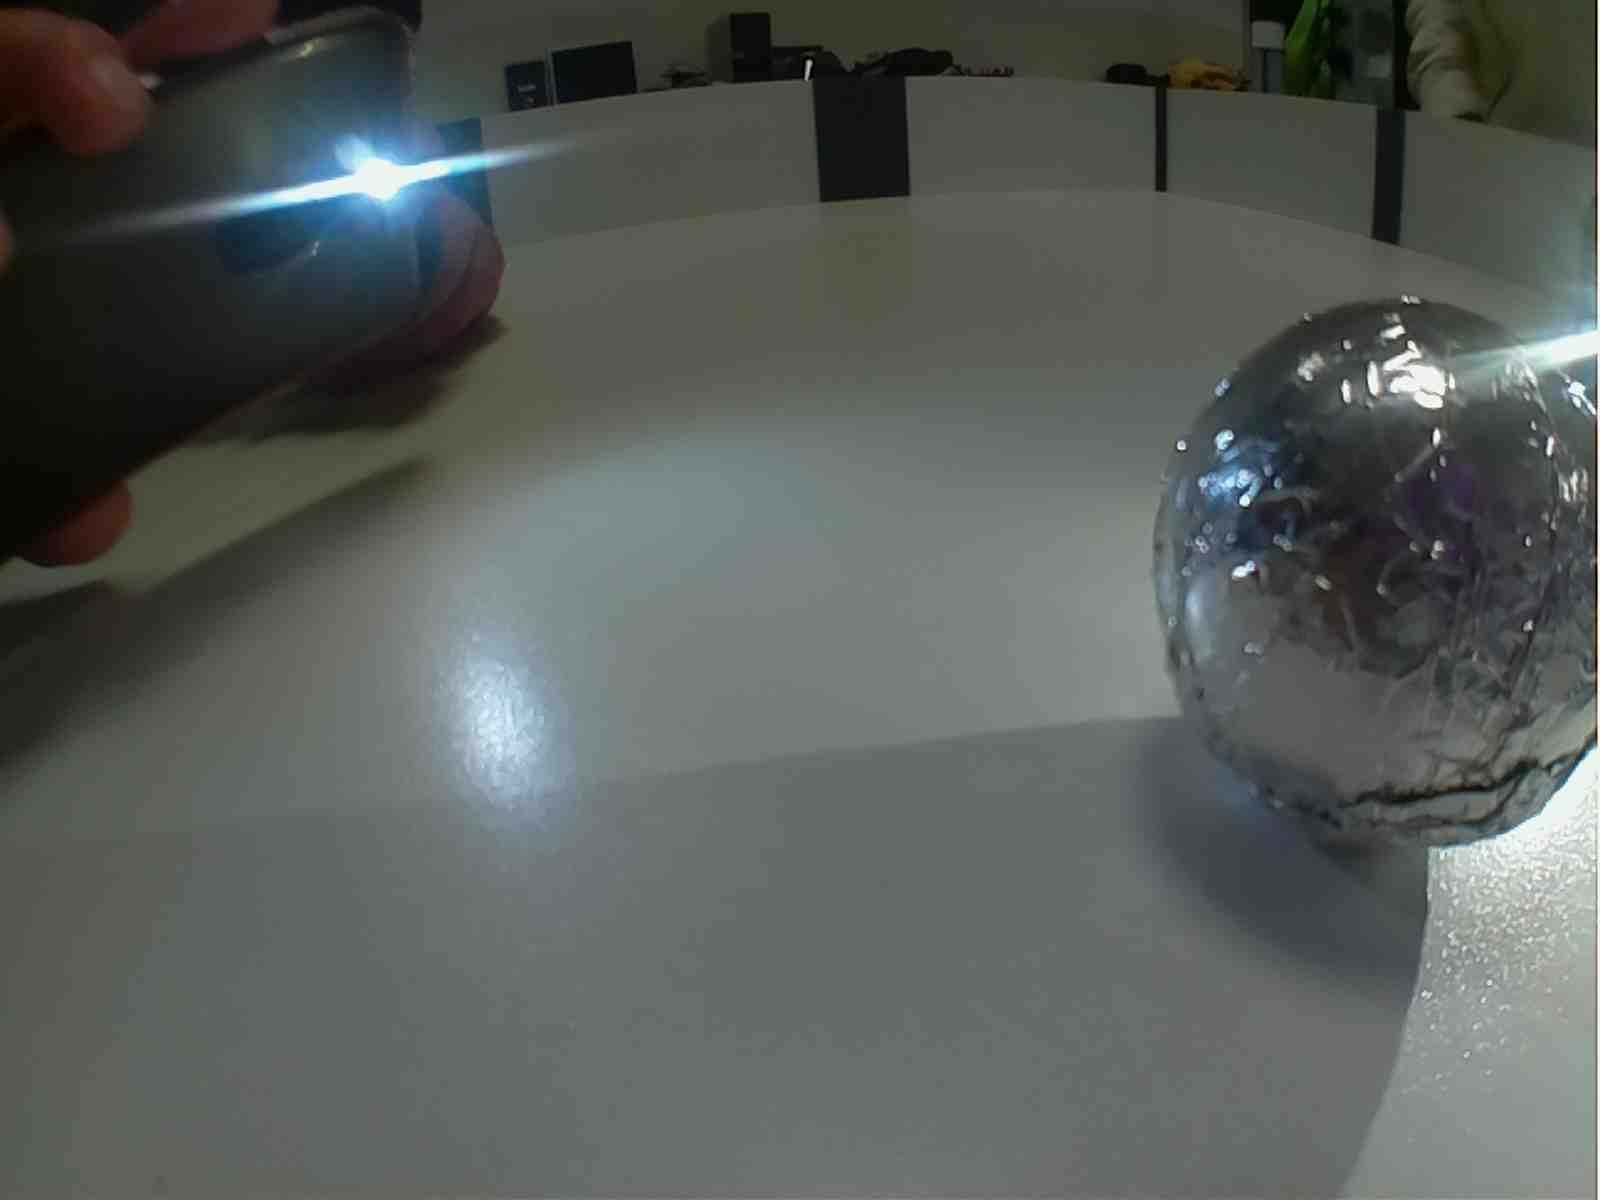bianca: (1148, 295, 1600, 851)
